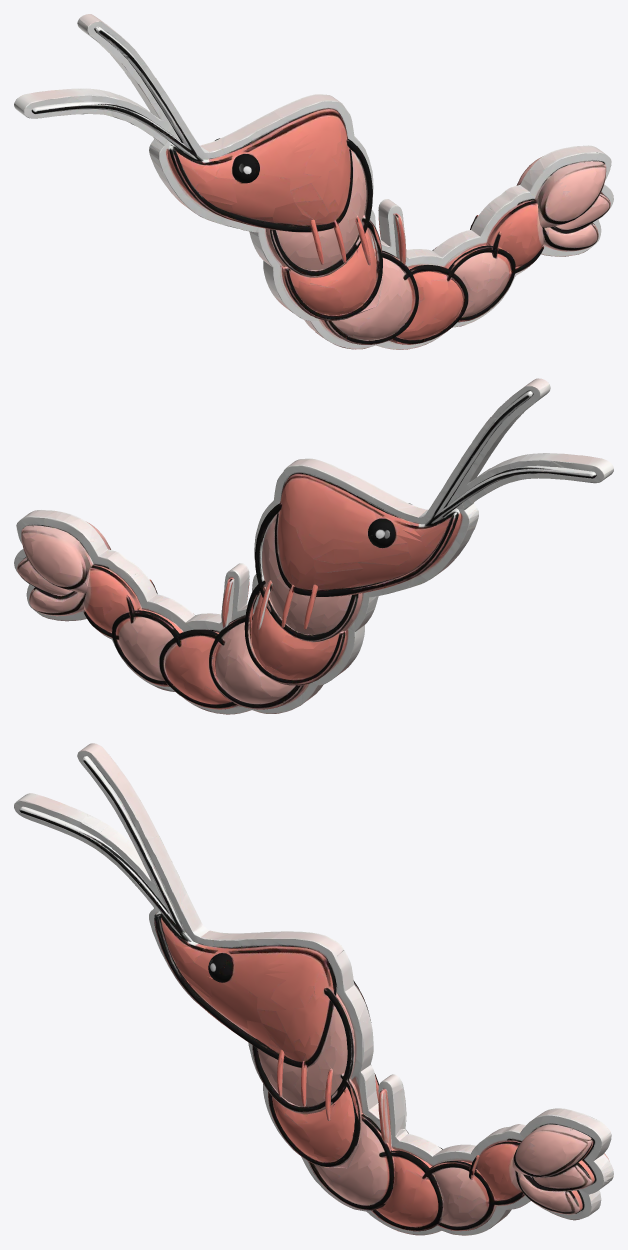
The model's file is camaron.glb.
3 renders of one model, top to bottom at view 1: azimuth 30°, elevation 25°; view 2: azimuth 150°, elevation 25°; view 3: azimuth 330°, elevation 25°, orthographic.
Size of the model in its own units: 1.9 by 1.25 by 0.2425.
1 material, 1 textured.
